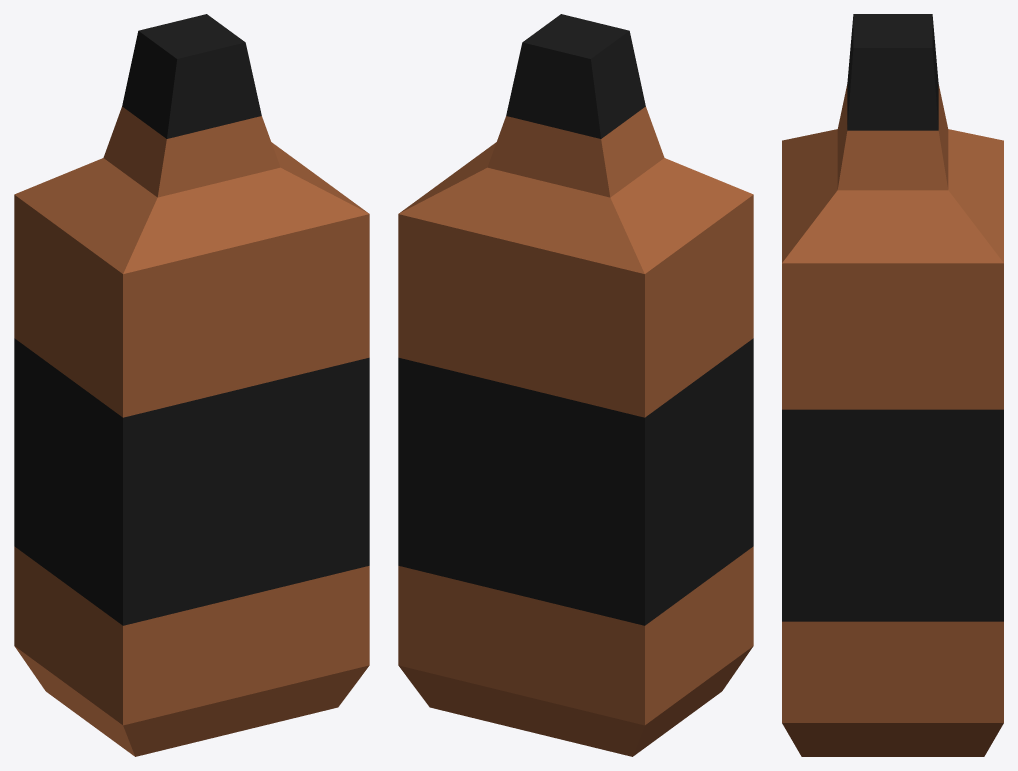
The model's file is WhiskeyBottle.fbx.
3 renders of one model, left to right at view 1: azimuth 30°, elevation 25°; view 2: azimuth 150°, elevation 25°; view 3: azimuth 270°, elevation 25°, orthographic.
Parts seen in each view (by area): view 1: WhiskeyBottle; view 2: WhiskeyBottle; view 3: WhiskeyBottle.
Boxes of the visible parts, x1,y1,x2,y2 form: WhiskeyBottle: (14,14,369,756); WhiskeyBottle: (398,14,753,756); WhiskeyBottle: (782,14,1003,756).
Size of the model in its own units: 16.68 by 42.82 by 12.75.
